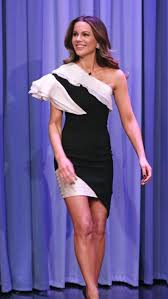middle_eastern_Female: (65, 19, 102, 56)
